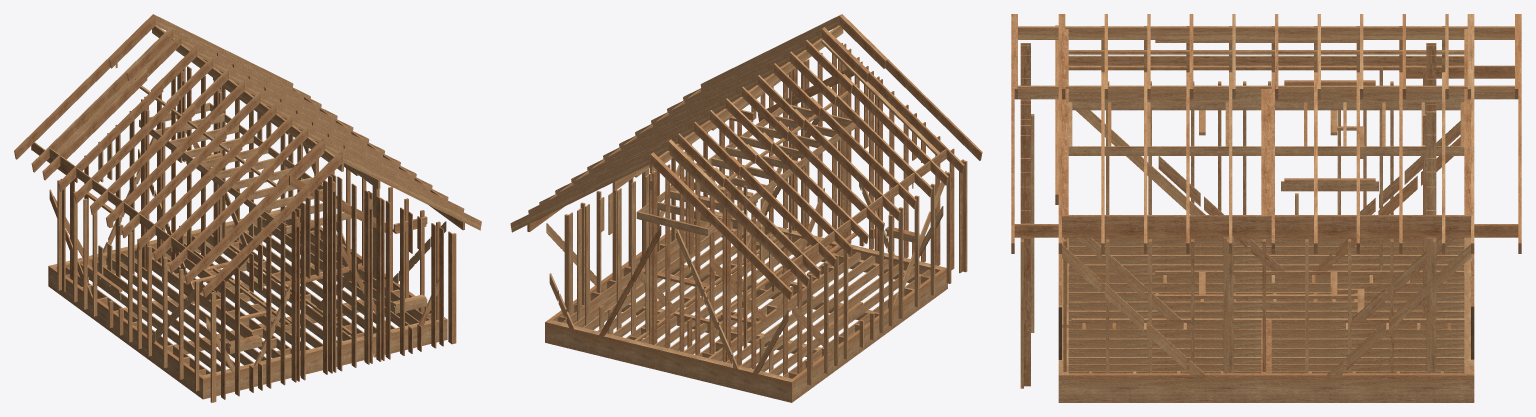
File: BuildingPrew.fbx
3 renders of one model, left to right at view 1: azimuth 30°, elevation 25°; view 2: azimuth 150°, elevation 25°; view 3: azimuth 270°, elevation 25°, orthographic. The views are drawn at different scales.
Visible parts, largest first — view 1: Material3, Material6; view 2: Material3, Material6; view 3: Material3, Material6.
Boxes of the visible parts, x1,y1,x2,y2 form: Material3: [14, 14, 481, 399]; Material6: [57, 66, 456, 402]; Material3: [510, 14, 982, 402]; Material6: [564, 43, 967, 385]; Material3: [1011, 14, 1521, 402]; Material6: [1020, 43, 1436, 388].
Size of the model in its own units: 639 by 504 by 755.
2 materials, 2 textured.
